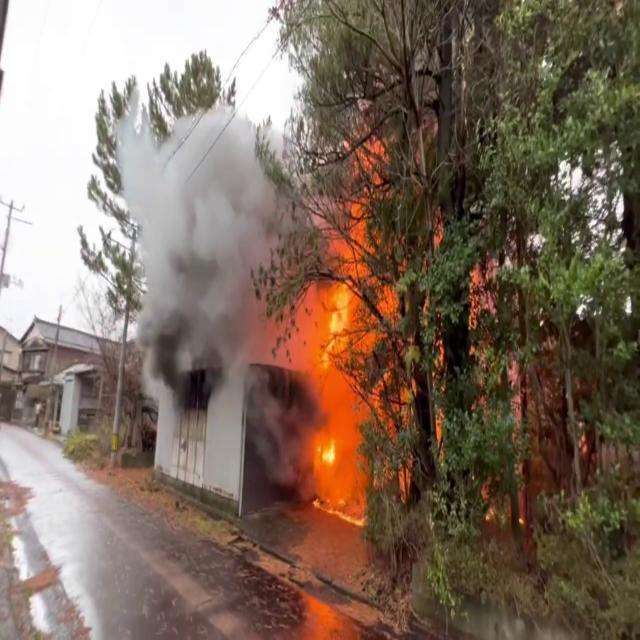Fire: (266, 127, 429, 493), (311, 426, 341, 478)
Smoke: (97, 86, 300, 406)
